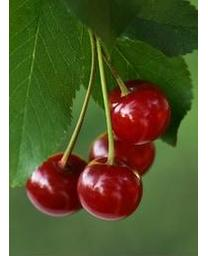cherry: (76, 155, 142, 222), (25, 152, 87, 218), (108, 82, 170, 144), (89, 134, 157, 177)
